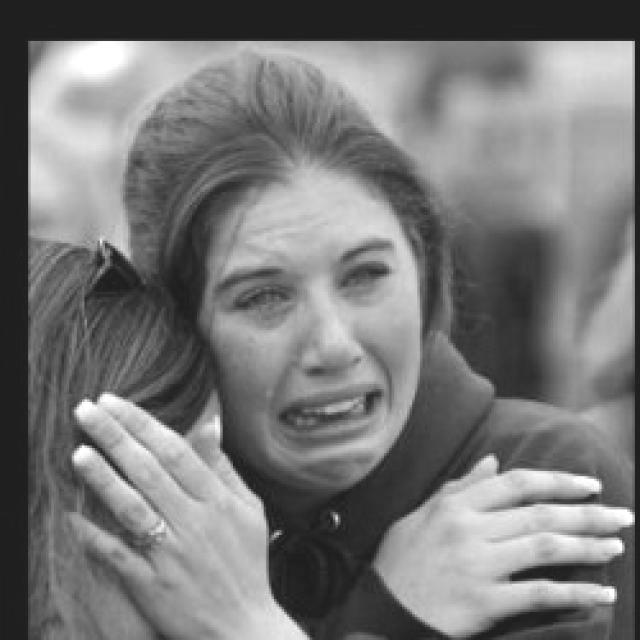real: (158, 67, 459, 498), (231, 257, 406, 316)
